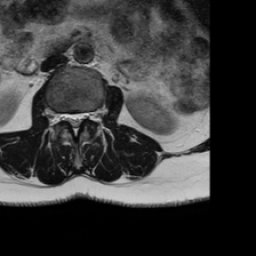CCS_normal: (71, 106, 78, 141)
LFS_normal: (85, 106, 94, 126)
LLS_normal: (78, 105, 85, 129)
RFS_normal: (56, 106, 64, 128)
RLS_normal: (64, 106, 71, 126)
